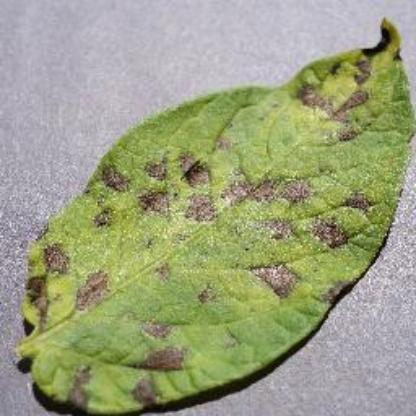Early-Blight: (17, 19, 416, 411)
